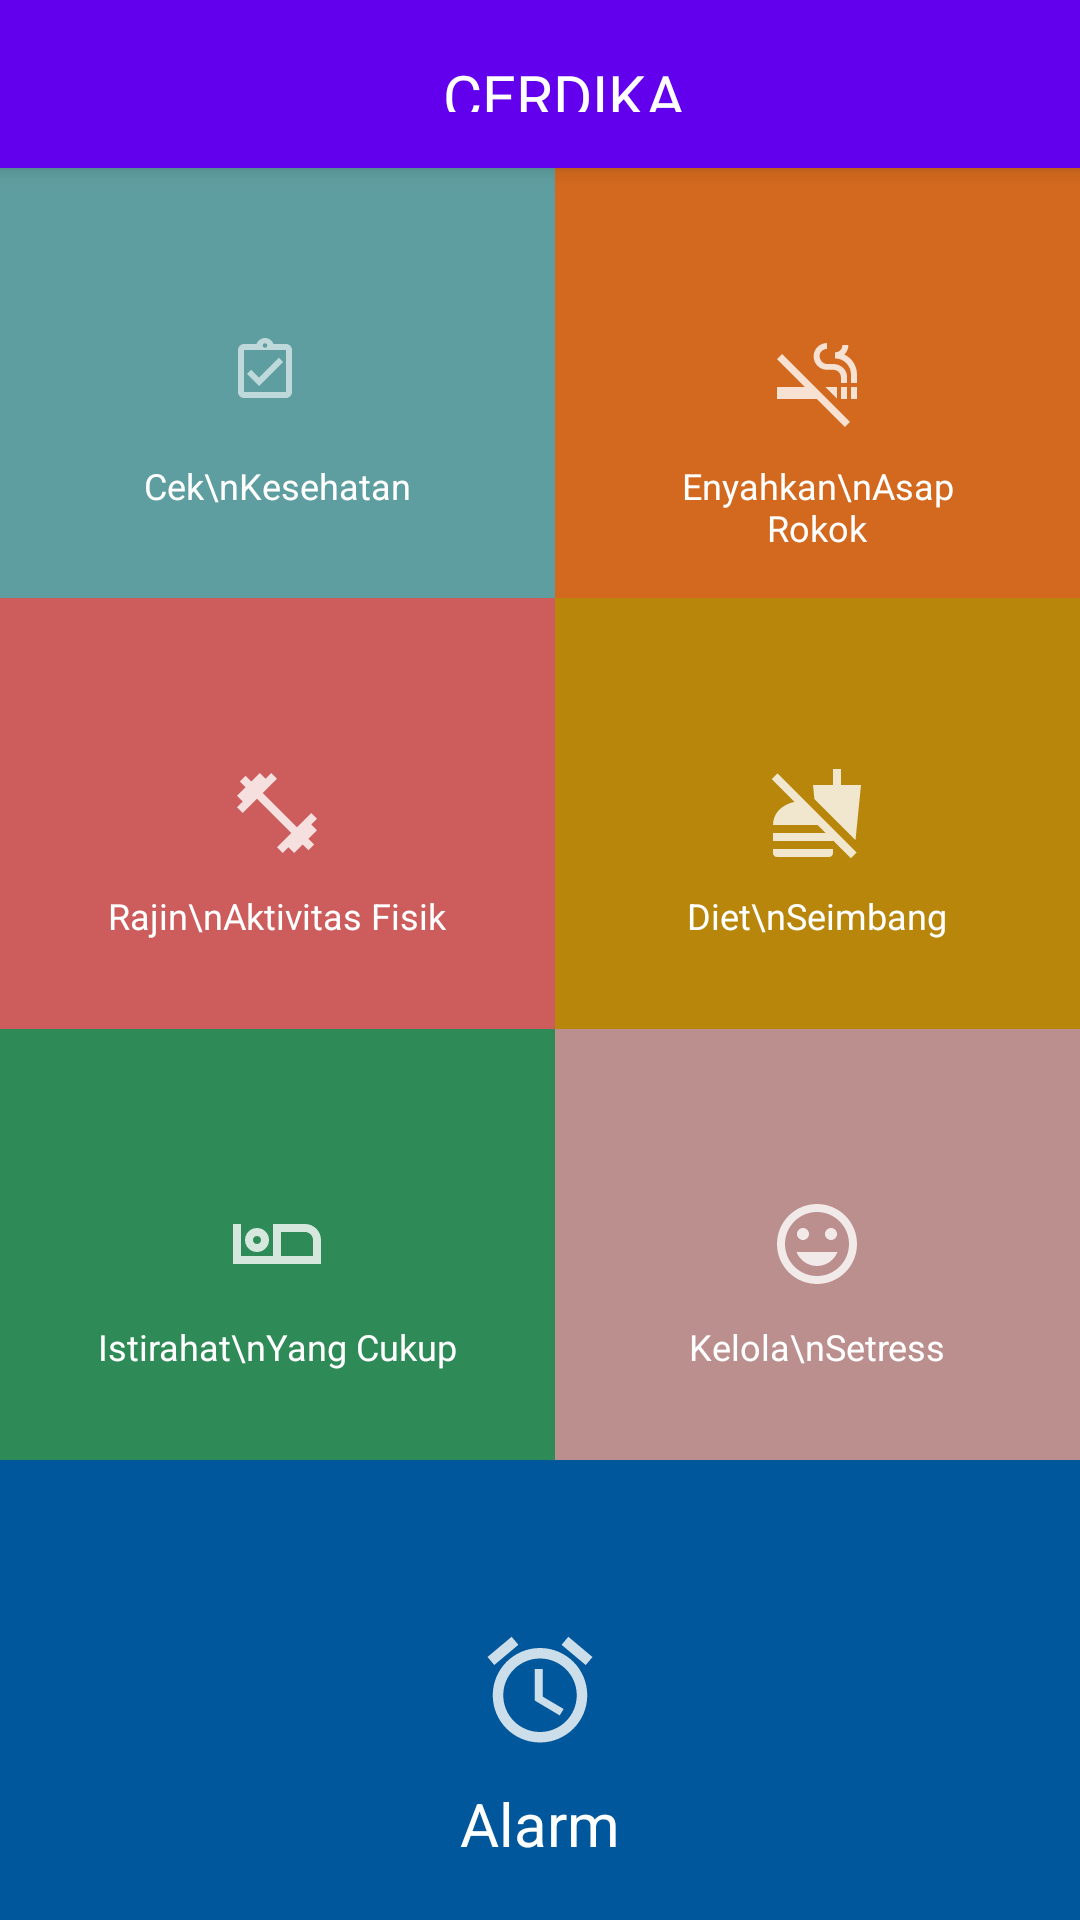

Where to tap for icons on this 1080 x 1920 app screen, as (x=x, y=y):
doing diet: (x=816, y=813)
doing exercise: (x=277, y=813)
health check: (x=265, y=368)
no smoking: (x=817, y=385)
stress control: (x=817, y=1244)
take rest: (x=277, y=1244)
